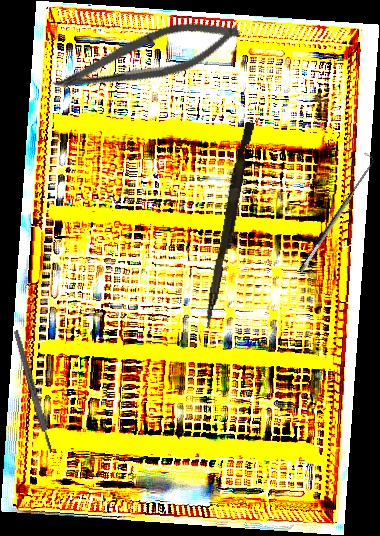Hook Surgical: (289, 151, 380, 274)
Micro Scissor: (46, 3, 247, 115)
Pusher: (203, 120, 255, 331)
Scalpel Handle: (12, 329, 55, 454)
